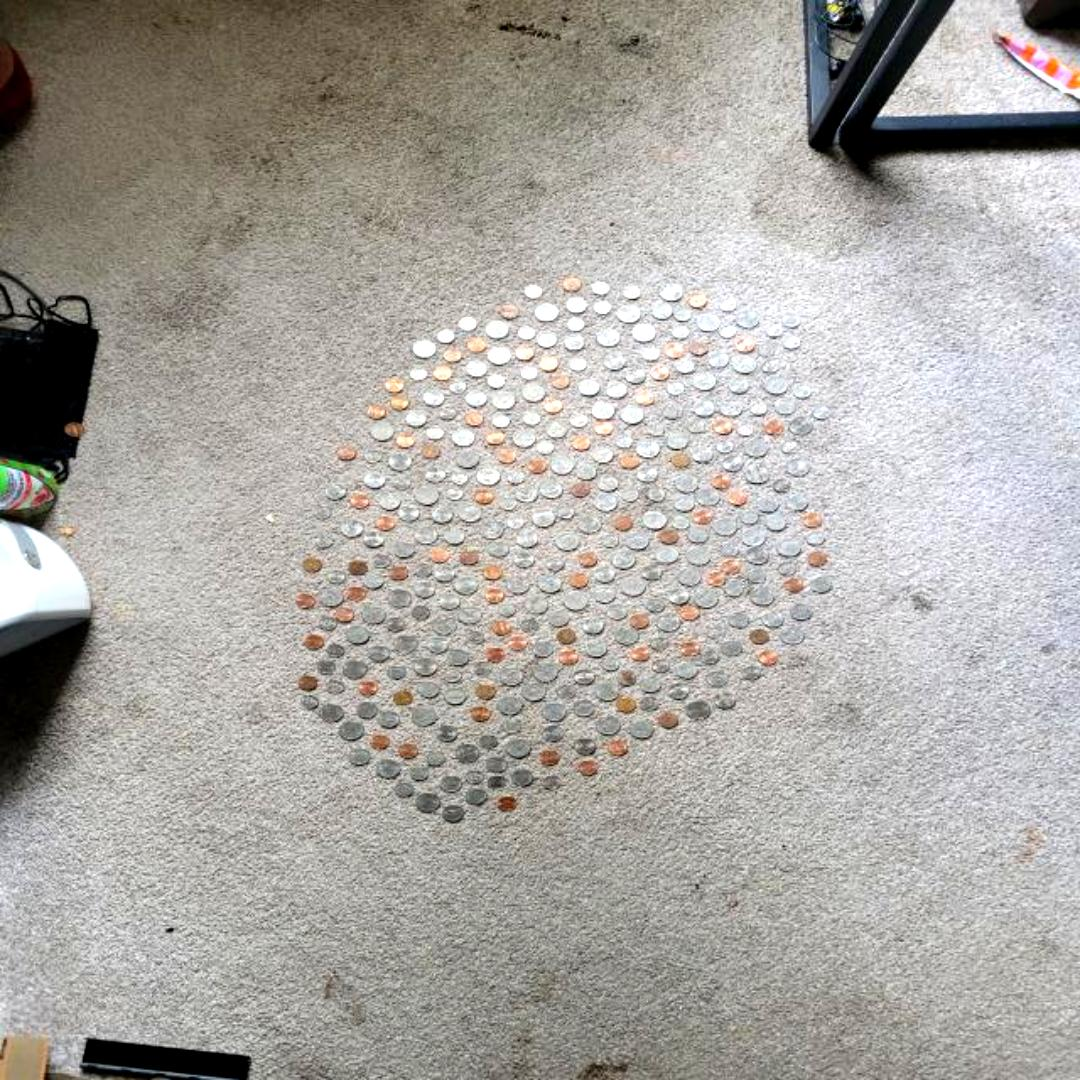Dime: (507, 514, 525, 530), (700, 648, 718, 664), (736, 422, 756, 436), (760, 358, 780, 372), (765, 323, 783, 338), (412, 604, 428, 620), (592, 282, 610, 296), (622, 286, 640, 300), (674, 308, 692, 322), (718, 298, 736, 312), (782, 336, 800, 350), (782, 314, 800, 328), (593, 300, 611, 314), (438, 406, 456, 420), (426, 426, 444, 440), (487, 374, 505, 388), (793, 384, 811, 398), (740, 510, 758, 524), (672, 516, 690, 530), (466, 630, 484, 644), (521, 618, 539, 632), (647, 598, 665, 612), (708, 626, 726, 640), (720, 542, 738, 556), (474, 660, 492, 674), (443, 668, 461, 682), (641, 696, 659, 710), (480, 734, 498, 748), (464, 770, 482, 784), (396, 782, 414, 796), (410, 766, 428, 780), (805, 532, 825, 544), (566, 317, 584, 330), (523, 411, 541, 424), (569, 357, 587, 370), (666, 382, 684, 395), (676, 360, 694, 373), (319, 617, 337, 630), (502, 720, 520, 733), (647, 488, 665, 501), (719, 324, 735, 338), (525, 284, 541, 298), (522, 366, 538, 380), (647, 422, 663, 436), (782, 440, 798, 454), (813, 406, 829, 420), (773, 478, 789, 492), (616, 434, 632, 448), (508, 470, 524, 484), (537, 440, 553, 454), (394, 476, 410, 490), (316, 534, 332, 548), (373, 554, 389, 568), (499, 602, 515, 616), (651, 636, 667, 650), (446, 486, 462, 500), (302, 694, 318, 708), (327, 644, 343, 658), (319, 660, 335, 674), (558, 684, 574, 698), (757, 342, 773, 356), (571, 414, 587, 428), (427, 752, 443, 766), (437, 330, 455, 342), (749, 402, 767, 414), (313, 506, 331, 518), (602, 658, 620, 670), (651, 660, 669, 672), (325, 680, 343, 692), (388, 666, 406, 678), (543, 776, 561, 788), (749, 570, 767, 582), (546, 558, 564, 570), (487, 776, 505, 788), (459, 317, 475, 330), (410, 367, 426, 380), (449, 379, 465, 392), (687, 419, 703, 432), (717, 440, 733, 453), (621, 488, 637, 501), (388, 617, 404, 630), (518, 326, 534, 338), (493, 414, 509, 426), (602, 534, 618, 546), (557, 506, 573, 518), (500, 498, 516, 510), (451, 472, 467, 484), (364, 450, 380, 462), (329, 570, 345, 582), (415, 564, 431, 576), (778, 562, 794, 574), (742, 666, 758, 678), (643, 348, 659, 360), (672, 326, 688, 338), (726, 584, 742, 596)
Nickel: (378, 493, 402, 509), (439, 594, 462, 610), (792, 603, 812, 621), (440, 776, 462, 792), (486, 756, 508, 772), (356, 702, 378, 718), (532, 642, 554, 658), (606, 604, 628, 620), (446, 649, 468, 665), (714, 692, 736, 708), (434, 566, 456, 582), (708, 351, 730, 367), (636, 466, 658, 482), (810, 577, 832, 593), (424, 467, 446, 483), (364, 472, 386, 488), (362, 531, 384, 547), (324, 484, 346, 500), (418, 681, 440, 697), (441, 805, 462, 821), (543, 725, 564, 741), (706, 670, 727, 686), (764, 514, 785, 530), (414, 582, 435, 598), (574, 738, 595, 754), (640, 676, 661, 692), (466, 788, 487, 804), (349, 749, 370, 765), (397, 505, 418, 521), (607, 382, 627, 398), (688, 526, 708, 542), (512, 769, 532, 785), (436, 724, 456, 740), (379, 711, 399, 727), (574, 700, 594, 716), (445, 688, 465, 704), (582, 618, 602, 634), (574, 669, 594, 685), (668, 682, 688, 698), (762, 610, 782, 626), (668, 588, 688, 604), (674, 495, 694, 511), (517, 531, 537, 547), (592, 447, 612, 463), (536, 331, 556, 347), (662, 403, 682, 419), (652, 303, 672, 319), (776, 399, 796, 415), (728, 378, 748, 394), (624, 367, 644, 383), (579, 379, 599, 395), (564, 335, 584, 351), (566, 297, 586, 313), (546, 422, 566, 438), (722, 455, 742, 471), (786, 495, 806, 511), (758, 497, 778, 513), (594, 567, 614, 583), (548, 610, 568, 626), (362, 572, 382, 588), (586, 640, 606, 656), (677, 663, 697, 679), (722, 640, 742, 656), (728, 611, 748, 627), (514, 551, 534, 567), (640, 565, 661, 580), (466, 362, 488, 376), (488, 542, 510, 556), (368, 646, 390, 660), (692, 447, 712, 462), (424, 391, 444, 406), (604, 355, 624, 370), (694, 400, 714, 415), (576, 465, 596, 480), (595, 588, 616, 602), (393, 542, 414, 556), (598, 476, 618, 490), (444, 530, 464, 544), (431, 508, 451, 522), (466, 392, 486, 406), (428, 638, 448, 652), (407, 410, 425, 425)
Penny: (394, 432, 416, 447), (608, 740, 628, 756), (539, 750, 559, 766), (398, 742, 418, 758), (420, 444, 442, 458), (562, 276, 582, 291), (688, 293, 708, 308), (433, 366, 453, 381), (350, 494, 370, 509), (358, 681, 378, 696), (345, 586, 366, 600), (498, 448, 516, 464), (476, 684, 494, 700), (466, 338, 486, 352), (712, 420, 732, 434), (571, 436, 591, 450), (693, 510, 713, 524), (614, 516, 634, 530), (366, 404, 386, 418), (659, 530, 679, 544), (807, 552, 827, 566), (559, 650, 579, 664), (507, 636, 527, 650), (392, 692, 412, 706), (501, 304, 519, 319), (690, 341, 708, 356), (540, 356, 558, 371), (672, 453, 690, 468), (593, 421, 611, 436), (485, 431, 503, 446), (528, 458, 546, 473), (571, 483, 589, 498), (631, 646, 649, 661), (371, 734, 389, 749), (569, 574, 589, 587), (721, 559, 741, 572), (459, 552, 479, 565), (736, 338, 754, 352), (665, 344, 683, 358), (651, 366, 669, 380), (551, 374, 569, 388), (516, 346, 534, 360), (765, 420, 783, 434), (466, 412, 484, 426), (803, 514, 821, 528), (475, 490, 493, 504), (390, 396, 408, 410), (337, 446, 355, 460), (377, 516, 395, 530), (578, 552, 596, 566), (483, 566, 501, 580), (707, 572, 725, 586), (785, 578, 803, 592), (759, 650, 777, 664), (681, 642, 699, 656), (680, 606, 698, 620), (486, 648, 504, 662), (389, 566, 407, 580), (296, 594, 314, 608), (298, 676, 316, 690), (659, 714, 677, 728), (616, 698, 634, 712), (579, 760, 597, 774), (498, 796, 516, 810), (637, 391, 653, 406), (629, 616, 649, 628), (304, 636, 324, 648), (444, 349, 462, 362), (620, 455, 638, 468), (728, 492, 746, 505), (386, 379, 404, 392), (545, 400, 561, 414), (713, 474, 729, 488), (431, 550, 449, 562), (348, 562, 366, 574), (302, 558, 320, 570), (485, 590, 503, 602), (750, 630, 768, 642), (493, 622, 511, 634), (335, 608, 353, 620), (472, 708, 490, 720), (618, 672, 636, 684), (558, 630, 576, 642)
Quarter: (788, 416, 812, 436), (524, 595, 548, 615), (340, 720, 364, 740), (530, 509, 556, 527), (484, 320, 510, 338), (520, 383, 546, 401), (454, 450, 480, 468), (634, 440, 660, 458), (744, 439, 770, 457), (676, 567, 702, 585), (744, 546, 770, 564), (432, 617, 458, 635), (362, 606, 388, 624), (342, 660, 368, 678), (594, 682, 620, 700), (614, 626, 640, 644), (686, 701, 712, 719), (454, 744, 480, 762), (413, 658, 438, 676), (694, 588, 716, 608), (764, 377, 788, 395), (632, 324, 656, 342), (512, 430, 536, 448), (746, 465, 770, 483), (696, 488, 720, 506), (674, 474, 698, 492), (594, 494, 618, 512), (714, 517, 738, 535), (776, 538, 800, 556), (750, 587, 774, 605), (550, 456, 574, 474), (540, 480, 564, 498), (506, 575, 530, 593), (458, 605, 482, 623), (388, 589, 412, 607), (320, 588, 344, 606), (412, 707, 436, 725), (498, 696, 522, 714), (542, 702, 566, 720), (522, 683, 546, 701), (534, 663, 558, 681), (596, 717, 620, 735), (656, 614, 680, 632), (506, 739, 530, 757), (514, 485, 538, 503), (554, 533, 580, 549), (370, 423, 393, 441), (413, 340, 436, 358), (660, 283, 683, 301), (388, 453, 411, 471), (785, 458, 808, 476), (644, 512, 667, 530), (741, 528, 764, 546), (625, 531, 648, 549), (622, 577, 645, 595), (578, 514, 601, 532), (539, 575, 562, 593), (630, 720, 653, 738), (782, 626, 805, 644), (458, 504, 481, 522), (736, 310, 758, 328), (694, 372, 716, 390), (492, 392, 514, 410), (452, 428, 474, 446), (656, 545, 678, 563), (612, 550, 634, 568), (480, 521, 502, 539), (454, 576, 476, 594), (414, 526, 436, 544), (346, 626, 368, 644), (394, 635, 416, 653), (500, 668, 522, 686), (320, 704, 342, 722), (418, 793, 440, 811), (478, 467, 500, 485), (696, 314, 720, 330), (565, 592, 586, 610), (415, 486, 436, 504), (719, 400, 742, 416), (617, 306, 640, 322), (536, 305, 559, 321), (666, 432, 689, 448), (688, 548, 711, 564), (377, 761, 400, 777), (734, 355, 754, 373), (598, 329, 618, 347), (488, 347, 510, 363), (340, 520, 362, 536), (592, 403, 612, 419), (622, 407, 642, 423)
